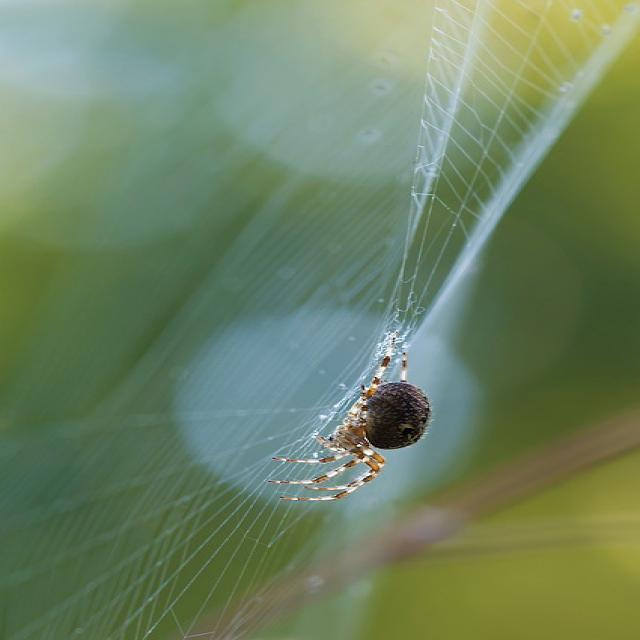spyder: (268, 342, 431, 501)
